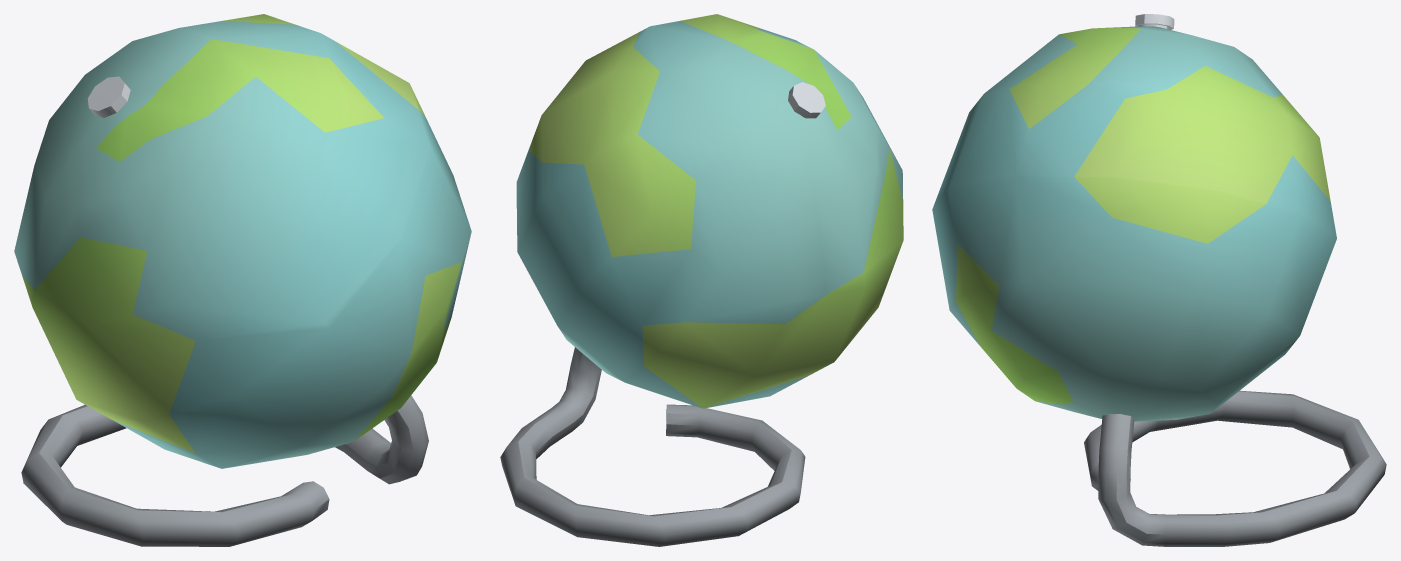
Rendered from globe.fbx.
3 renders of one model, left to right at view 1: azimuth 30°, elevation 25°; view 2: azimuth 150°, elevation 25°; view 3: azimuth 270°, elevation 25°, orthographic. The views are drawn at different scales.
Visible parts, largest first — view 1: globe; view 2: globe; view 3: globe.
Boxes of the visible parts, x1,y1,x2,y2 form: globe: (14,14,471,546); globe: (500,14,903,546); globe: (932,14,1386,546).
Size of the model in its own units: 252 by 302 by 285.
